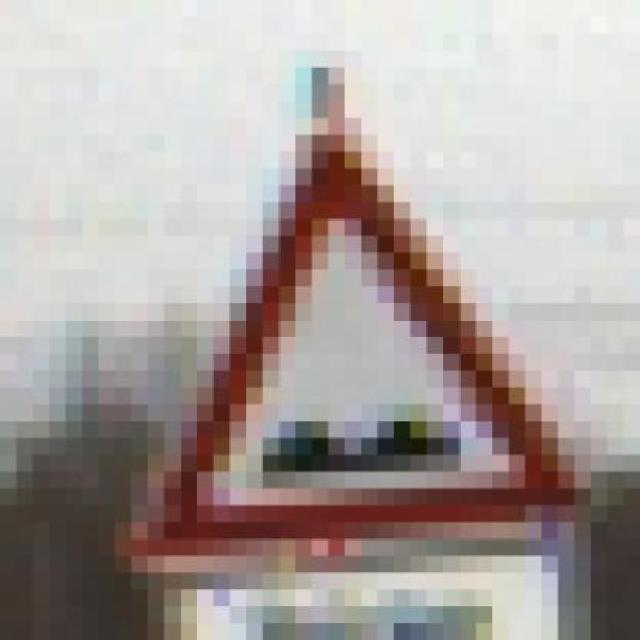Uneven Road: (108, 116, 584, 555)
